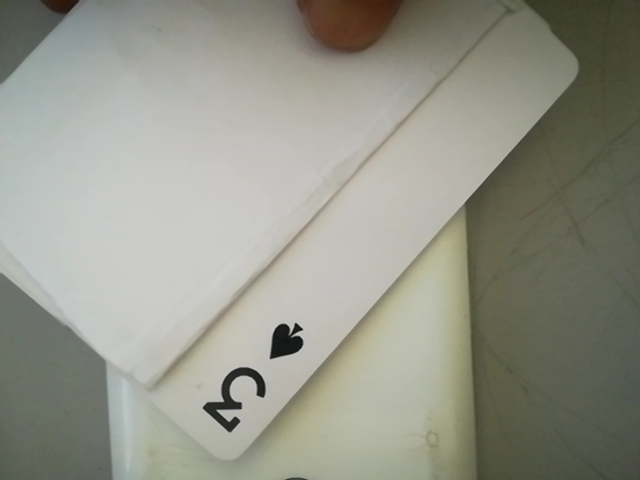ht 3: (179, 312, 314, 441)
